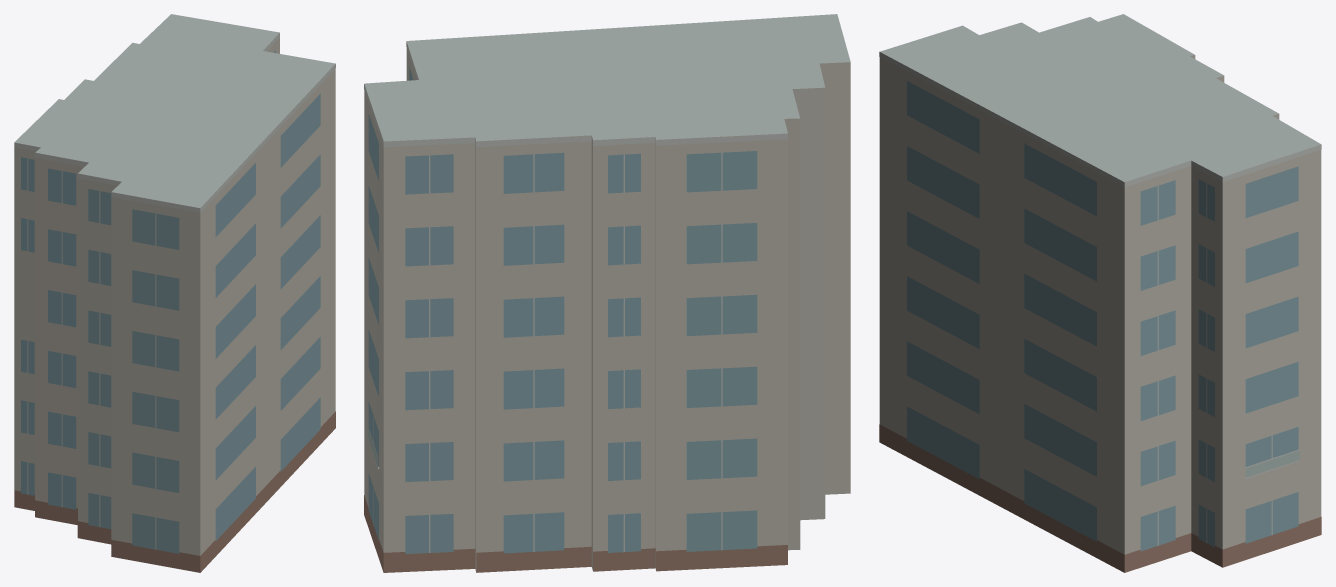
Rendered from survey-upis-32660494.glb.
3 views of the same model, side by side, from view 1: azimuth 30°, elevation 25°; view 2: azimuth 150°, elevation 25°; view 3: azimuth 270°, elevation 25° (orthographic). The views are drawn at different scales.
Visible parts, largest first — view 1: survey-upis-32660494.tmp; view 2: survey-upis-32660494.tmp; view 3: survey-upis-32660494.tmp.
Boxes of the visible parts, x1,y1,x2,y2 form: survey-upis-32660494.tmp: (14, 14, 335, 572); survey-upis-32660494.tmp: (364, 14, 850, 572); survey-upis-32660494.tmp: (879, 14, 1321, 572).
Size of the model in its own units: 16.92 by 18.3 by 18.77.
